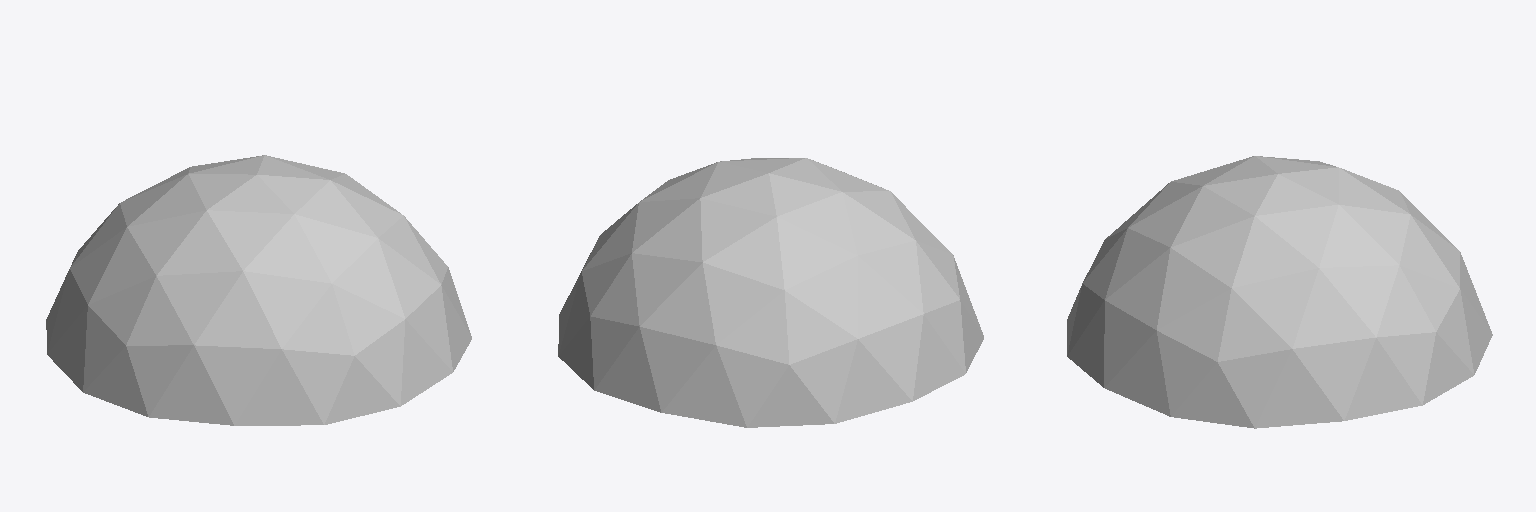
File: dome.obj
3 renders of one model, left to right at view 1: azimuth 30°, elevation 25°; view 2: azimuth 150°, elevation 25°; view 3: azimuth 270°, elevation 25°, orthographic.
Visible parts, largest first — view 1: GD_mesh.002; view 2: GD_mesh.002; view 3: GD_mesh.002.
Part boxes in pixels (bbox=[...]): GD_mesh.002: bbox=[46, 155, 471, 425]; GD_mesh.002: bbox=[558, 158, 983, 427]; GD_mesh.002: bbox=[1067, 156, 1492, 428].
Size of the model in its own units: 6.52 by 2.76 by 6.48.